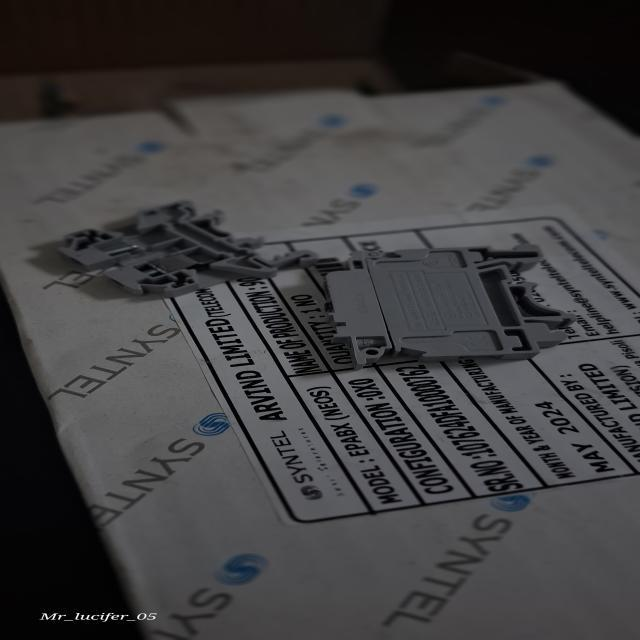Pass: (49, 190, 328, 308)
